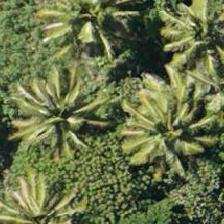coconut_tree: (122, 86, 212, 176), (13, 71, 103, 161), (46, 0, 136, 59), (0, 170, 84, 223), (160, 0, 223, 70)
